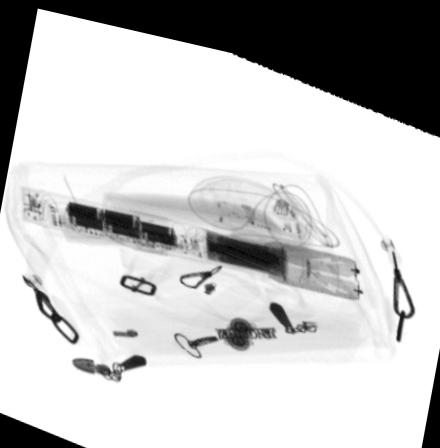Baton: (18, 181, 361, 285)
